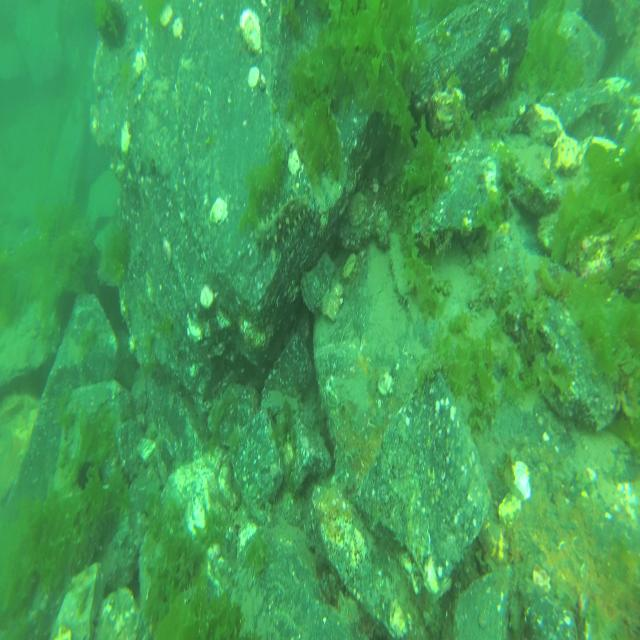echinus: (96, 5, 129, 53), (76, 458, 103, 494)
holothurian: (248, 195, 310, 253)
